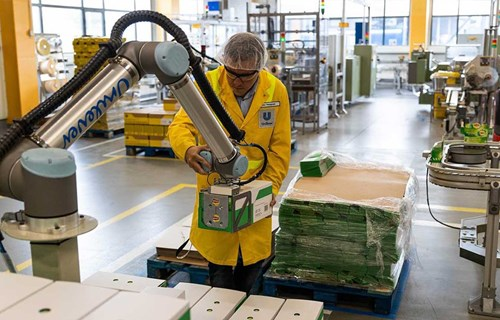person: (167, 32, 293, 298)
robot: (5, 10, 274, 285)
